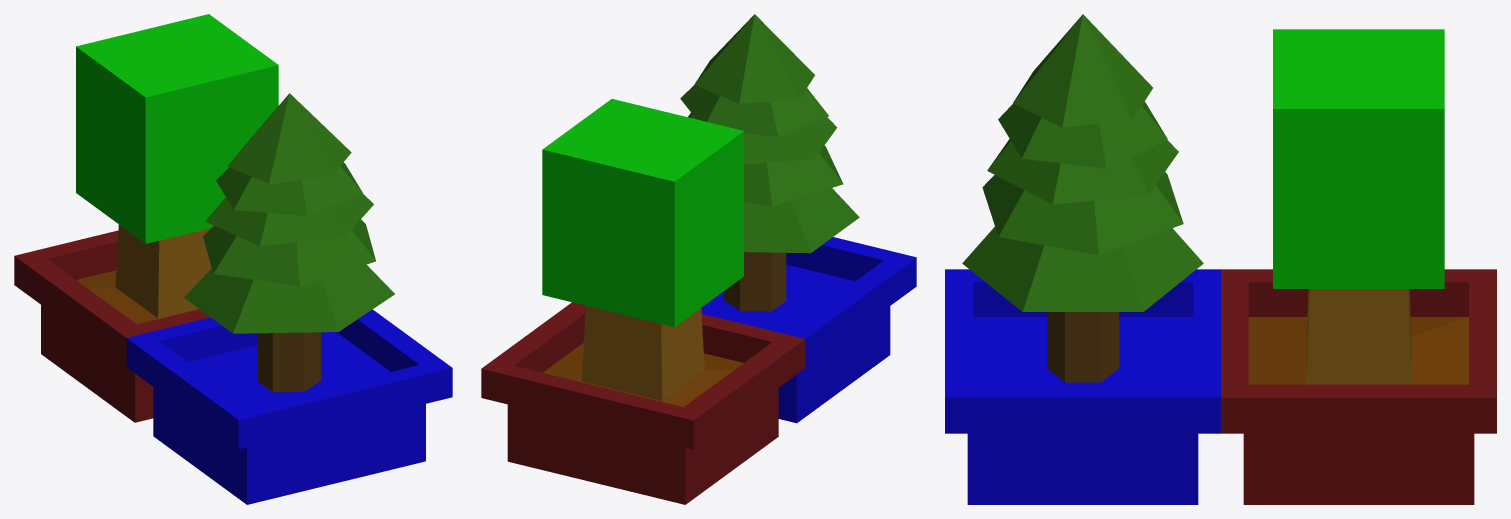
File: kleinebomen.fbx
3 renders of one model, left to right at view 1: azimuth 30°, elevation 25°; view 2: azimuth 150°, elevation 25°; view 3: azimuth 270°, elevation 25°, orthographic. The views are drawn at different scales.
Visible parts, largest first — view 1: Cube.012; view 2: Cube.012; view 3: Cube.012.
Part boxes in pixels (x1,y1,x2,y2): Cube.012: [14, 14, 452, 504]; Cube.012: [481, 14, 916, 504]; Cube.012: [945, 14, 1496, 504].
Size of the model in its own units: 32.8 by 52.15 by 59.63.
